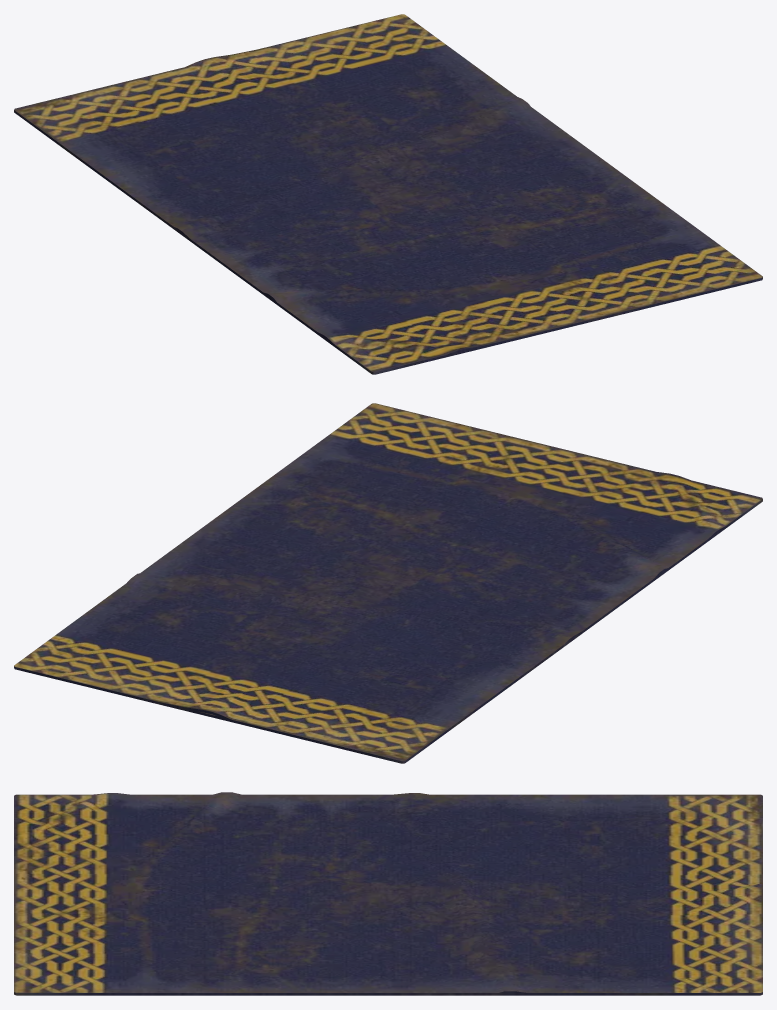
File: RugB.glb
The picture shows the model from 3 angles, top to bottom: view 1: azimuth 30°, elevation 25°; view 2: azimuth 150°, elevation 25°; view 3: azimuth 270°, elevation 25°; orthographic projection. The views are drawn at different scales.
Parts seen in each view (by area): view 1: RugB; view 2: RugB; view 3: RugB.
Boxes of the visible parts, x1=… form: RugB: x1=14, y1=14, x2=762, y2=374; RugB: x1=14, y1=403, x2=762, y2=763; RugB: x1=14, y1=792, x2=762, y2=995.
Size of the model in its own units: 2.12 by 0.0289 by 3.38.
1 material, 1 textured.
